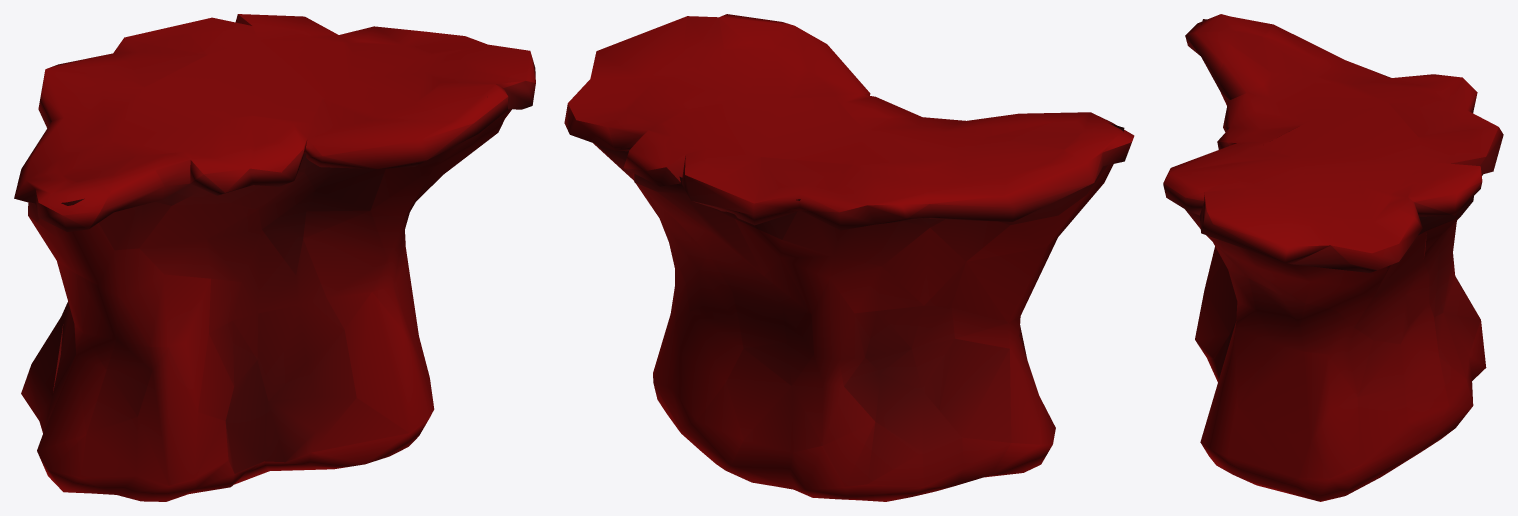
Rendered from env_siderock_medium03_lod2.fbx.
The picture shows the model from 3 angles, left to right: view 1: azimuth 30°, elevation 25°; view 2: azimuth 150°, elevation 25°; view 3: azimuth 270°, elevation 25°; orthographic projection. The views are drawn at different scales.
Parts seen in each view (by area): view 1: env_siderock_medium03_lod2; view 2: env_siderock_medium03_lod2; view 3: env_siderock_medium03_lod2.
Boxes of the visible parts, x1,y1,x2,y2 form: env_siderock_medium03_lod2: (14,14,535,501); env_siderock_medium03_lod2: (564,14,1134,501); env_siderock_medium03_lod2: (1163,14,1503,501).
Bounding box in the file's own units: 107 × 70.61 × 67.
